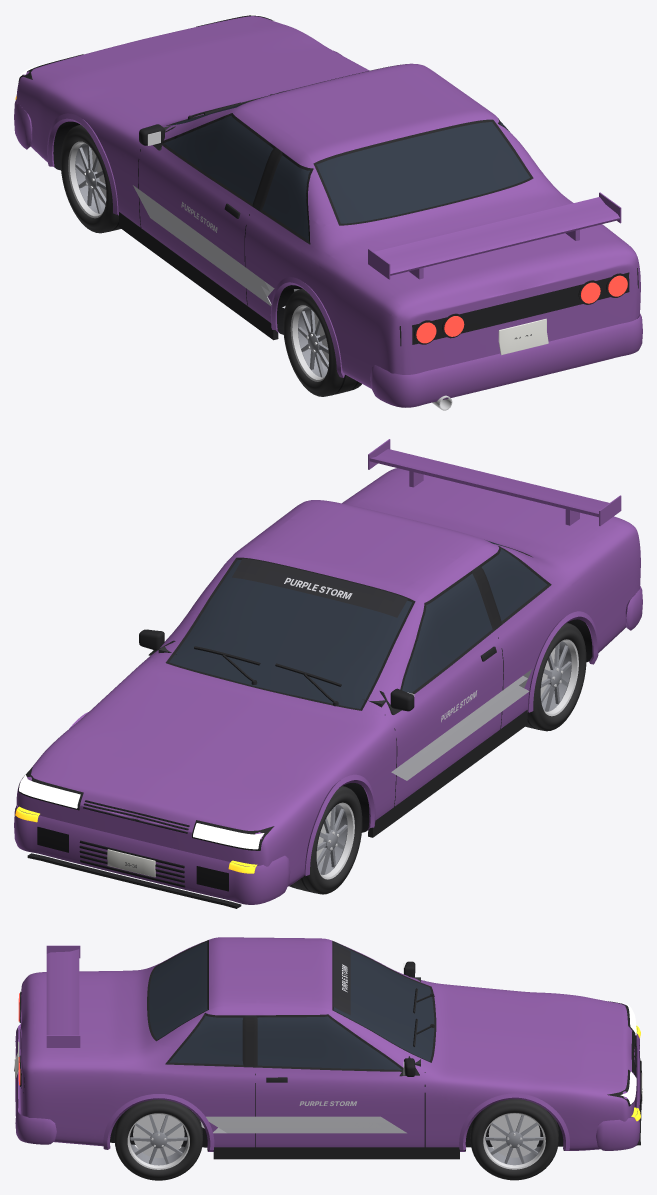
3 views of the same model, one above another, from view 1: azimuth 30°, elevation 25°; view 2: azimuth 150°, elevation 25°; view 3: azimuth 270°, elevation 25° (orthographic). The views are drawn at different scales.
Visible parts, largest first — view 1: Body, Wheel_RL, Wheel_FL; view 2: Body, Wheel_FL, Wheel_RL; view 3: Body, Wheel_RR, Wheel_FR.
Part boxes in pixels (bbox=[...]): Body: bbox=[14, 14, 642, 410]; Wheel_RL: bbox=[283, 288, 361, 396]; Wheel_FL: bbox=[60, 124, 120, 233]; Body: bbox=[14, 439, 642, 908]; Wheel_FL: bbox=[289, 786, 362, 894]; Wheel_RL: bbox=[525, 623, 586, 731]; Body: bbox=[14, 937, 642, 1159]; Wheel_RR: bbox=[114, 1099, 202, 1180]; Wheel_FR: bbox=[470, 1099, 558, 1180].
Bounding box in the file's own units: 1.88 × 1.36 × 4.71.
